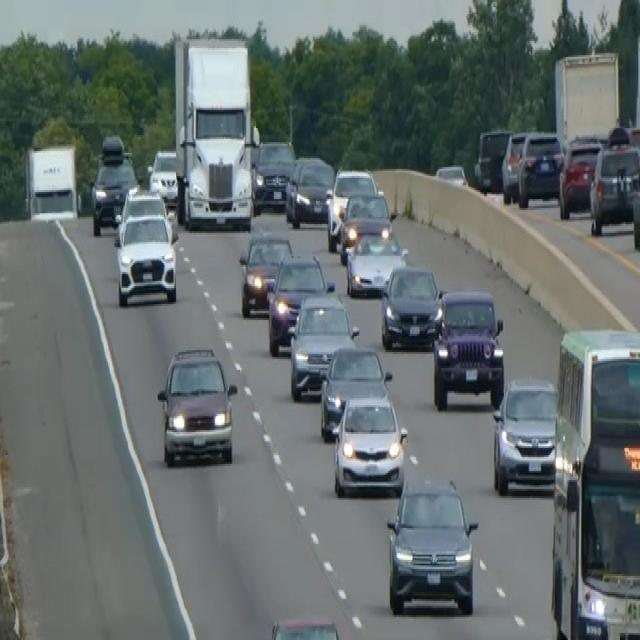bus: (549, 324, 639, 638)
car: (385, 475, 479, 615), (156, 345, 237, 467), (431, 286, 505, 411), (332, 391, 408, 498), (491, 374, 558, 494), (287, 292, 359, 400), (266, 250, 334, 356), (318, 343, 392, 439), (113, 210, 178, 306), (379, 262, 443, 351), (90, 133, 138, 235), (589, 138, 639, 234), (238, 230, 293, 316), (344, 224, 408, 297), (325, 165, 377, 251), (558, 135, 603, 219), (338, 188, 392, 258), (284, 153, 335, 227), (516, 130, 564, 208), (252, 137, 295, 208), (113, 185, 167, 238), (473, 126, 511, 192), (500, 130, 527, 202), (146, 148, 178, 206), (267, 615, 343, 638), (434, 162, 468, 188), (631, 167, 639, 251)
lorry: (172, 34, 258, 231)
